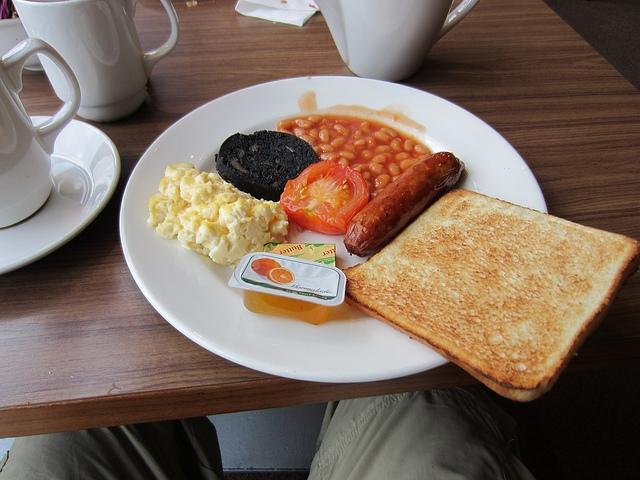tomato: (280, 160, 370, 234)
